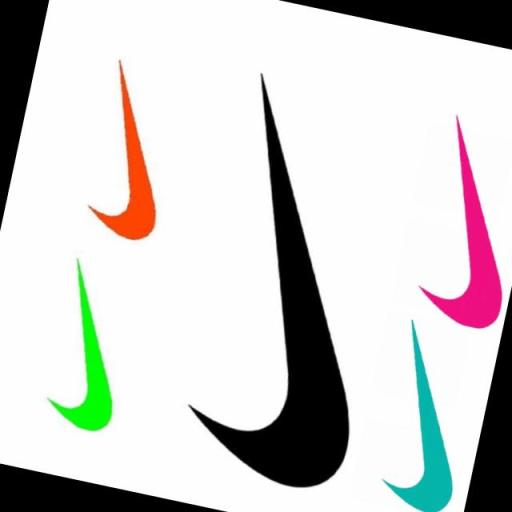Nike: (82, 56, 188, 243)
